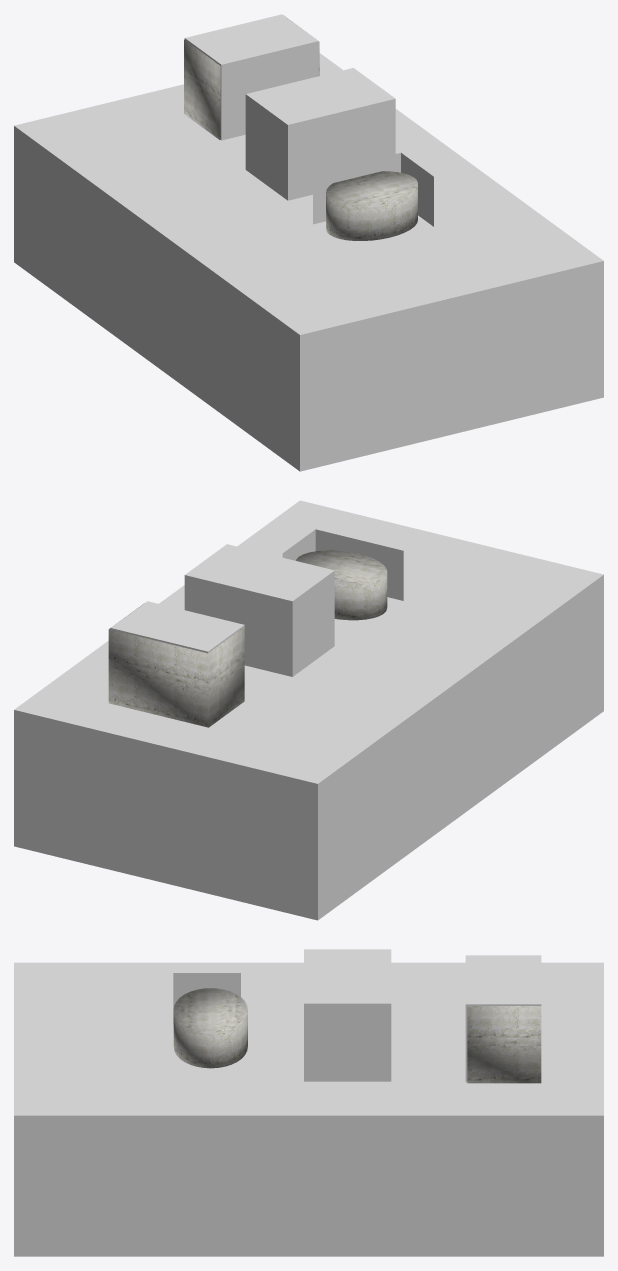
Rendered from LowApartment.gltf.
The picture shows the model from 3 angles, top to bottom: view 1: azimuth 30°, elevation 25°; view 2: azimuth 150°, elevation 25°; view 3: azimuth 270°, elevation 25°; orthographic projection. The views are drawn at different scales.
Visible parts, largest first — view 1: COL, Cube; view 2: COL, Cube; view 3: COL, Cube.
Part boxes in pixels (bbox=[...]): COL: bbox=[14, 14, 603, 471]; Cube: bbox=[184, 16, 417, 240]; COL: bbox=[14, 500, 603, 920]; Cube: bbox=[108, 550, 387, 727]; COL: bbox=[14, 949, 603, 1256]; Cube: bbox=[173, 988, 541, 1083].
Bounding box in the file's own units: 53.11 × 35.46 × 86.58.
4 materials, 1 textured.
